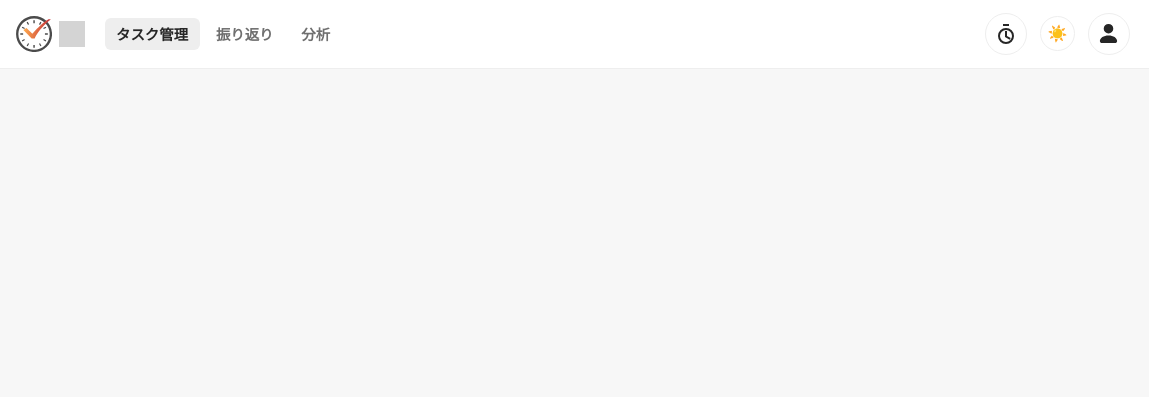
AppHeader user menu › shows all account actions only after the user icon is pressed
The width and height of the screenshot is (1149, 397).
Expected: the 2nd icon is shown, [1097, 22, 1120, 45]
Click the button named "ユーザーメニューを開く".
click(1109, 34)  # box [1088, 13, 1130, 55]
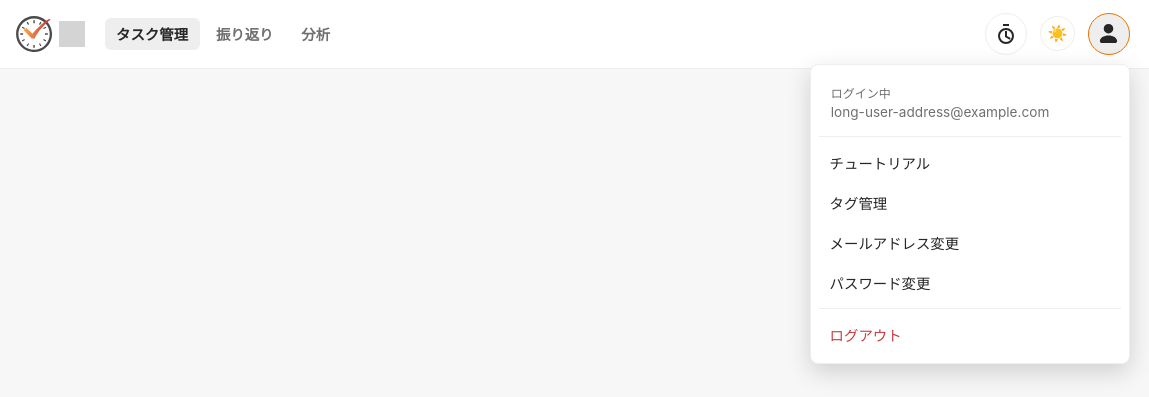
Expected: the button named "ユーザーメニューを開く" is expanded, [1088, 13, 1130, 55]
Expected: the menu shows "long-user-address@example.com", [831, 104, 1049, 120]
Expected: the menu item to "/tags" reads "タグ管理", [830, 195, 887, 212]
